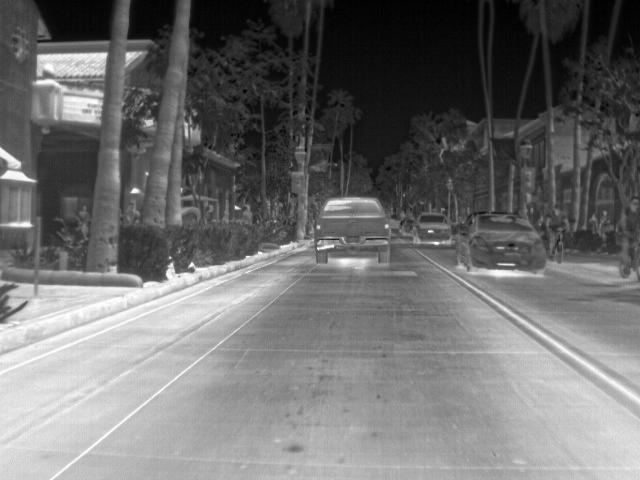car: (455, 213, 547, 273), (312, 197, 392, 262), (413, 213, 458, 244), (401, 218, 418, 237)
person: (616, 194, 640, 256), (549, 206, 570, 243), (597, 210, 612, 237), (587, 212, 600, 234), (77, 206, 91, 222)
